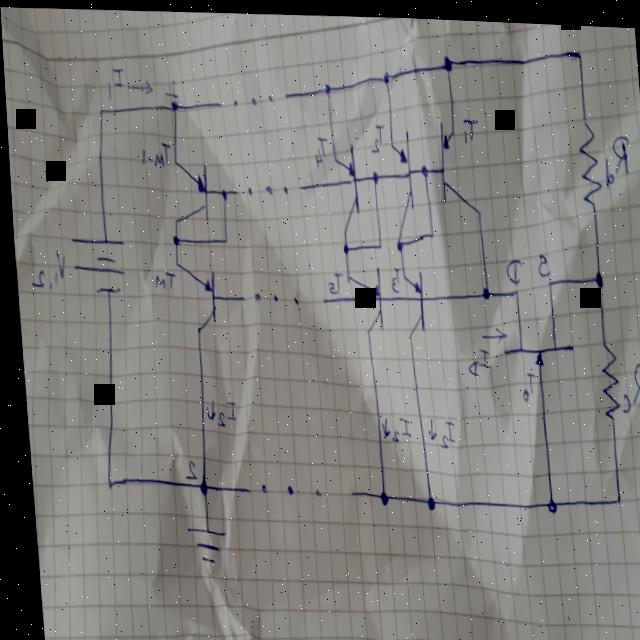ground: (177, 517, 223, 568)
junction: (441, 48, 452, 70), (589, 263, 600, 282), (418, 488, 429, 507), (191, 475, 201, 494), (477, 278, 487, 297), (372, 485, 382, 503), (540, 491, 550, 508), (573, 40, 583, 57), (417, 156, 426, 174), (380, 65, 389, 81), (321, 77, 330, 93), (98, 474, 107, 490), (607, 486, 616, 501), (217, 183, 225, 199), (392, 232, 400, 248), (95, 101, 103, 117), (368, 164, 376, 180), (168, 231, 177, 245), (168, 95, 176, 109), (339, 237, 346, 252), (425, 224, 431, 236), (373, 235, 379, 247), (219, 232, 225, 243)
resistor: (576, 114, 601, 207), (595, 337, 616, 420)
source: (65, 230, 130, 306)
text: (23, 245, 67, 295), (598, 126, 630, 185), (614, 354, 640, 407), (135, 135, 172, 168), (460, 340, 488, 374), (102, 62, 128, 98), (382, 407, 407, 440), (207, 396, 232, 428), (432, 411, 453, 445), (365, 116, 383, 151), (310, 131, 327, 165), (515, 365, 532, 395), (501, 250, 519, 278), (149, 268, 170, 287), (533, 245, 547, 273), (460, 112, 475, 138), (161, 75, 178, 97), (322, 267, 337, 291), (385, 261, 397, 289), (177, 455, 190, 480)
transistor: (493, 264, 572, 370), (430, 111, 479, 204), (171, 256, 219, 335), (339, 255, 384, 336), (383, 120, 417, 221), (166, 154, 211, 223), (327, 134, 361, 225), (397, 263, 427, 333)
